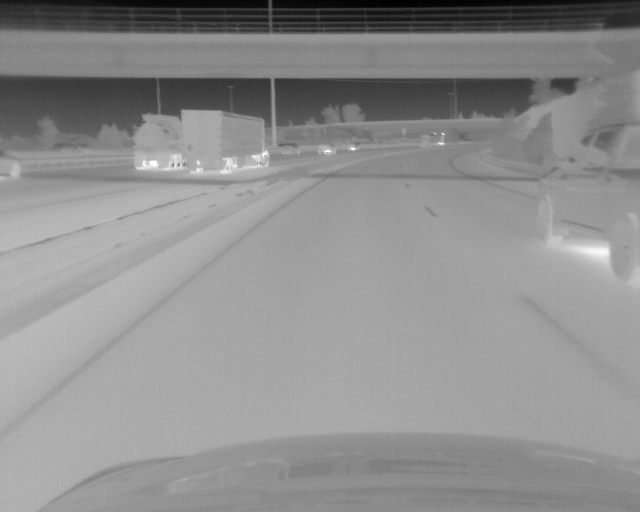car: (533, 124, 640, 285), (181, 109, 270, 174), (133, 113, 185, 170), (420, 132, 446, 147), (278, 142, 300, 155), (317, 143, 335, 154), (345, 141, 359, 152)
